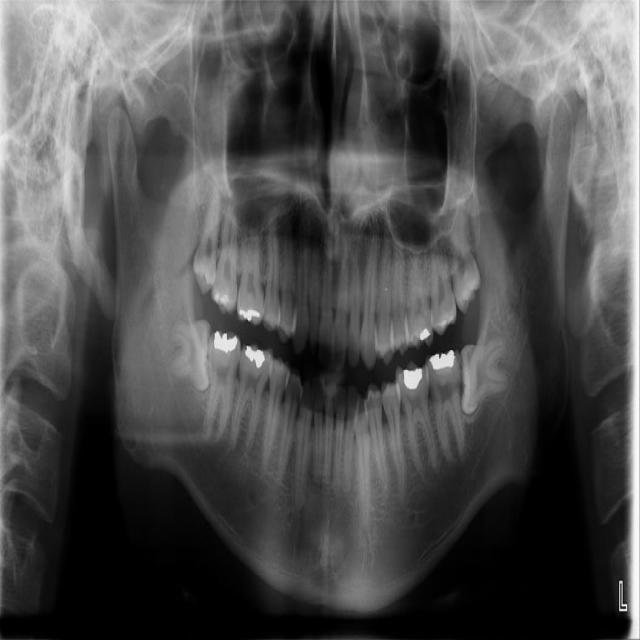Filling: (210, 331, 239, 353), (400, 367, 425, 392), (243, 345, 267, 368), (427, 351, 456, 370), (236, 305, 262, 322), (211, 289, 232, 309), (436, 309, 455, 329), (417, 323, 432, 342)
impacted tooth: (460, 336, 514, 413), (156, 319, 210, 388)
